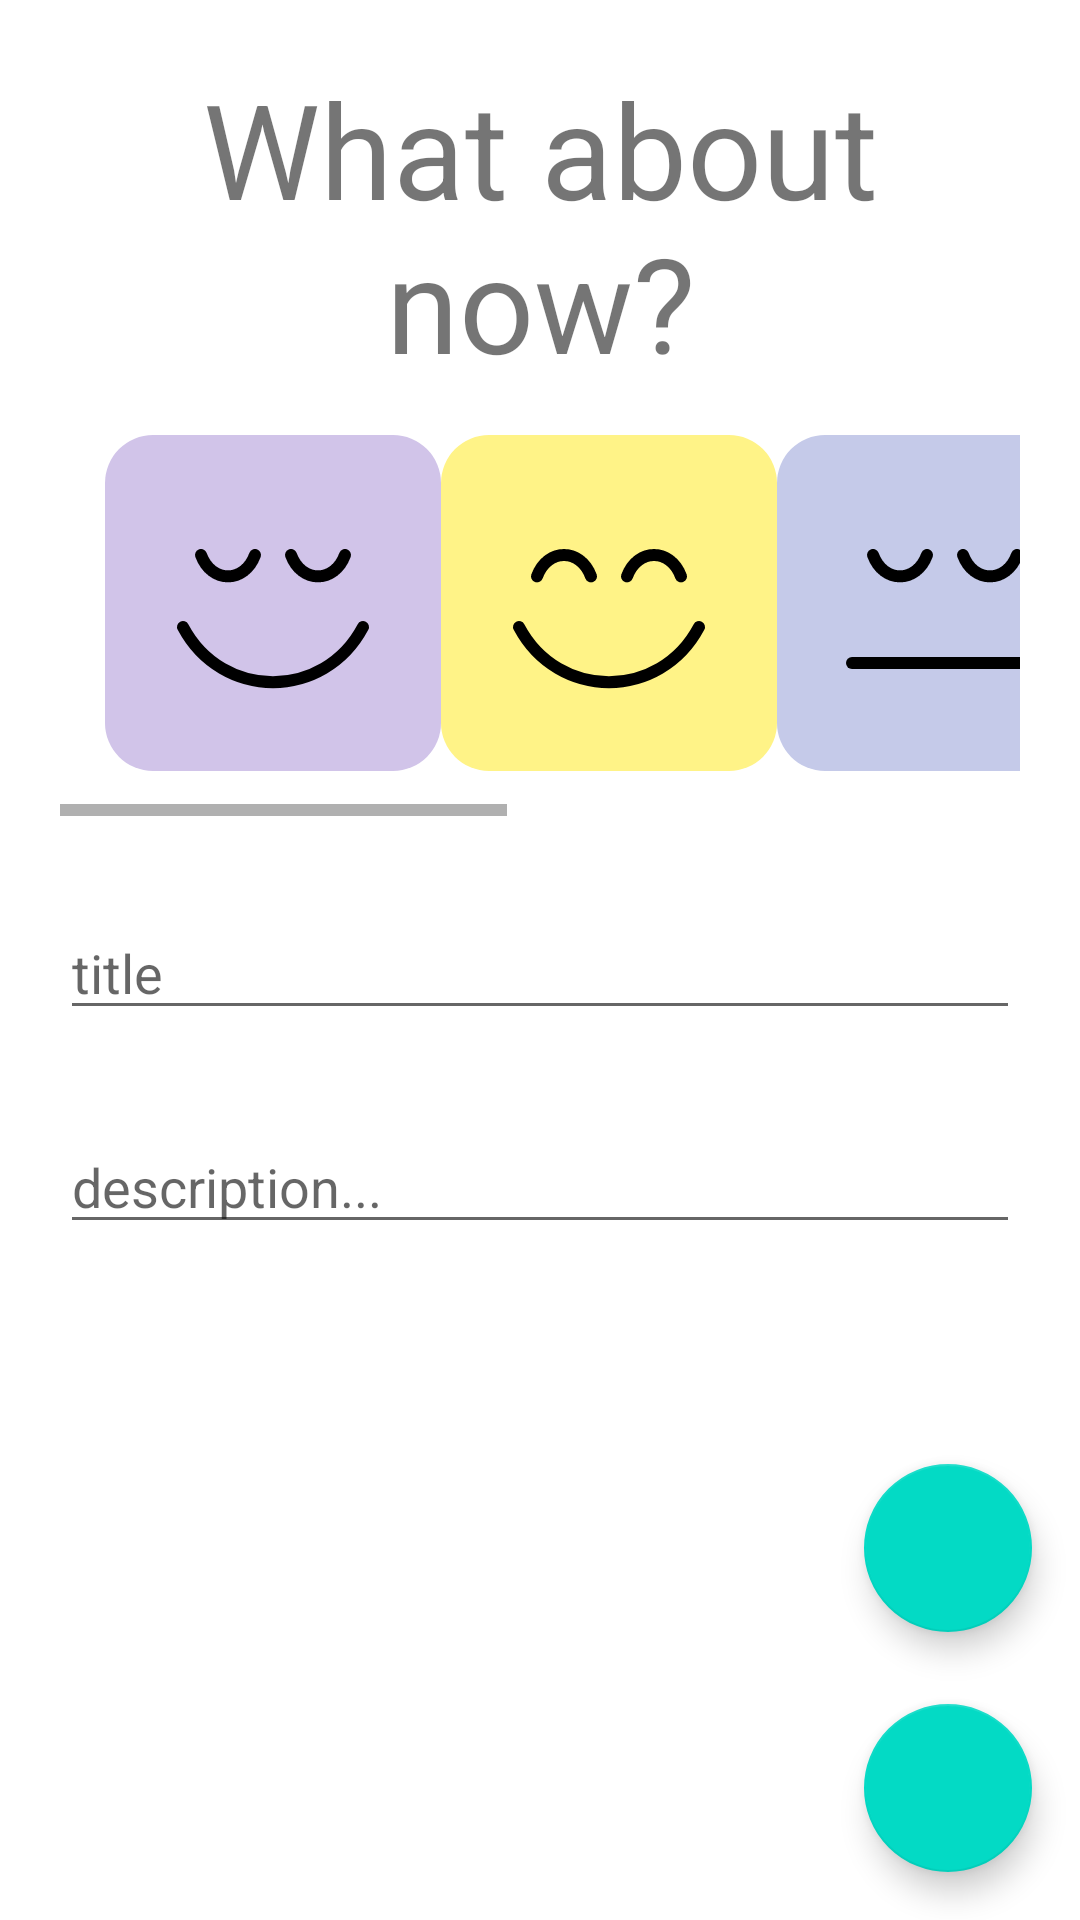

Icon bounding boxes for this 1080*1920 phone screenshot, format [x1, y1, x2, y2]:
content false: [105, 435, 441, 771]
happy false: [441, 435, 777, 771]
